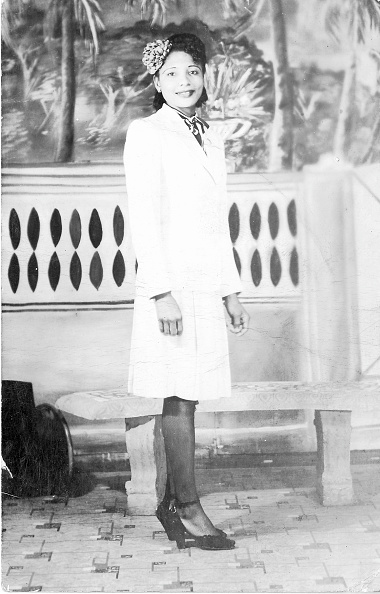em pe: (114, 34, 254, 387)
